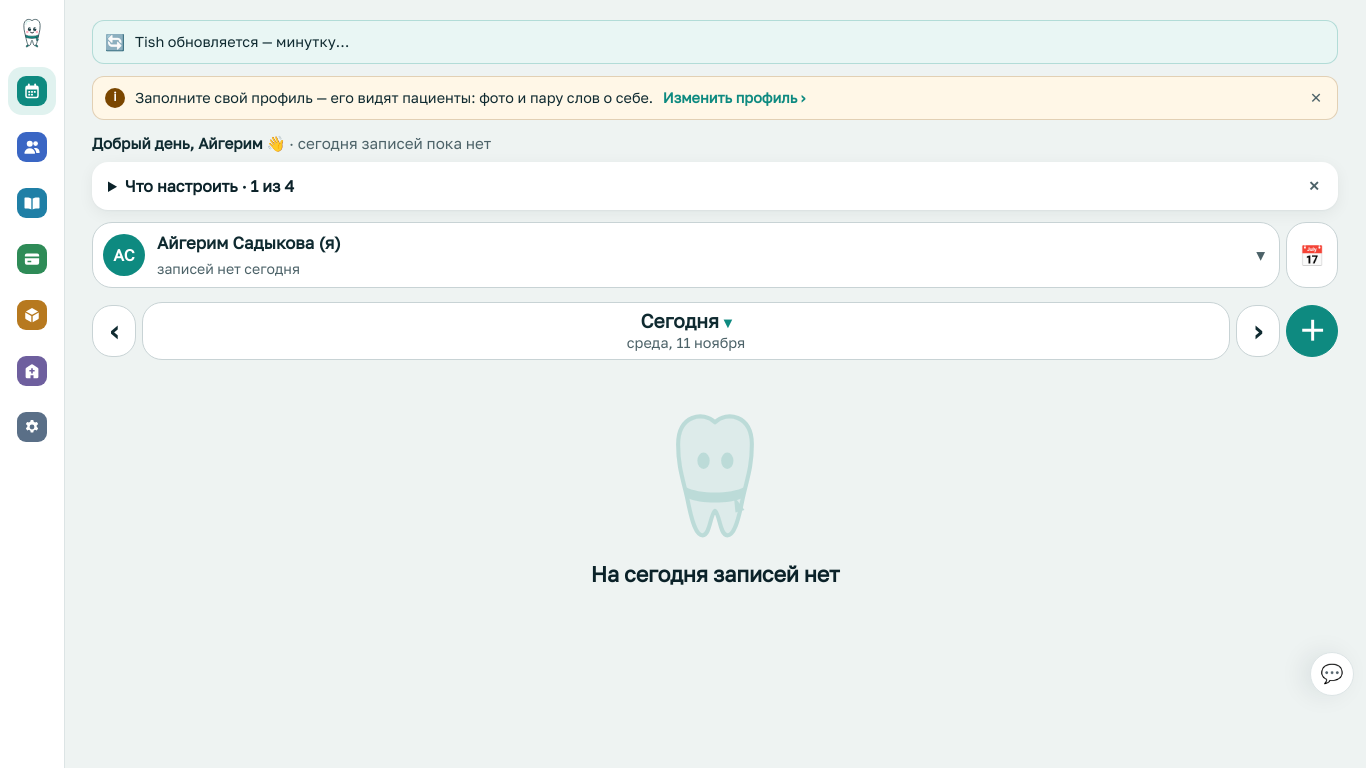
Test case: «Месяц» › телефон: «День | Месяц» нет — нажали на дату, месяц листом снизу; день — открывается в «Дне»
The width and height of the screenshot is (1366, 768).
Click the button with aria-label "выбрать день". click: click(686, 331)
box: top-left (142, 302), bottom-right (1230, 360)
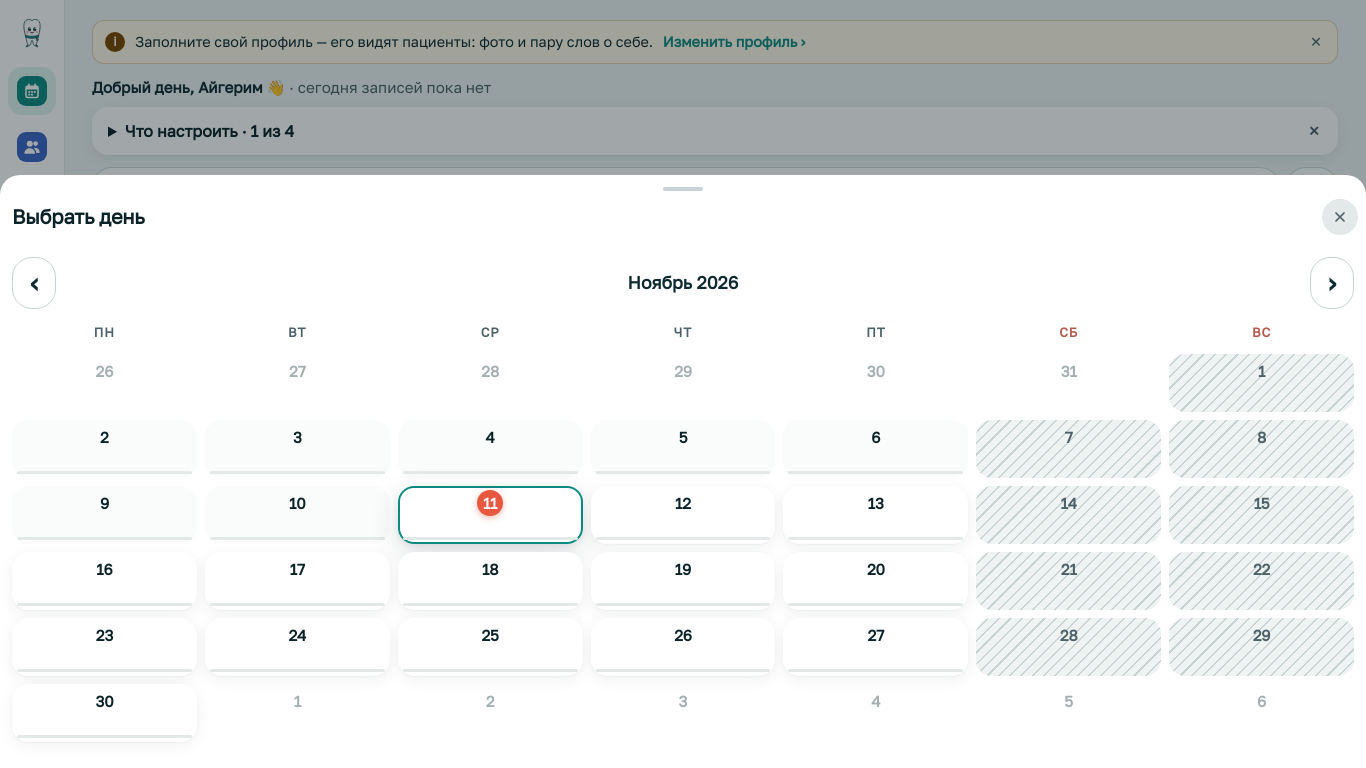
Click the button named "Следующий месяц". click: click(1332, 283)
box: top-left (1310, 257), bottom-right (1354, 309)
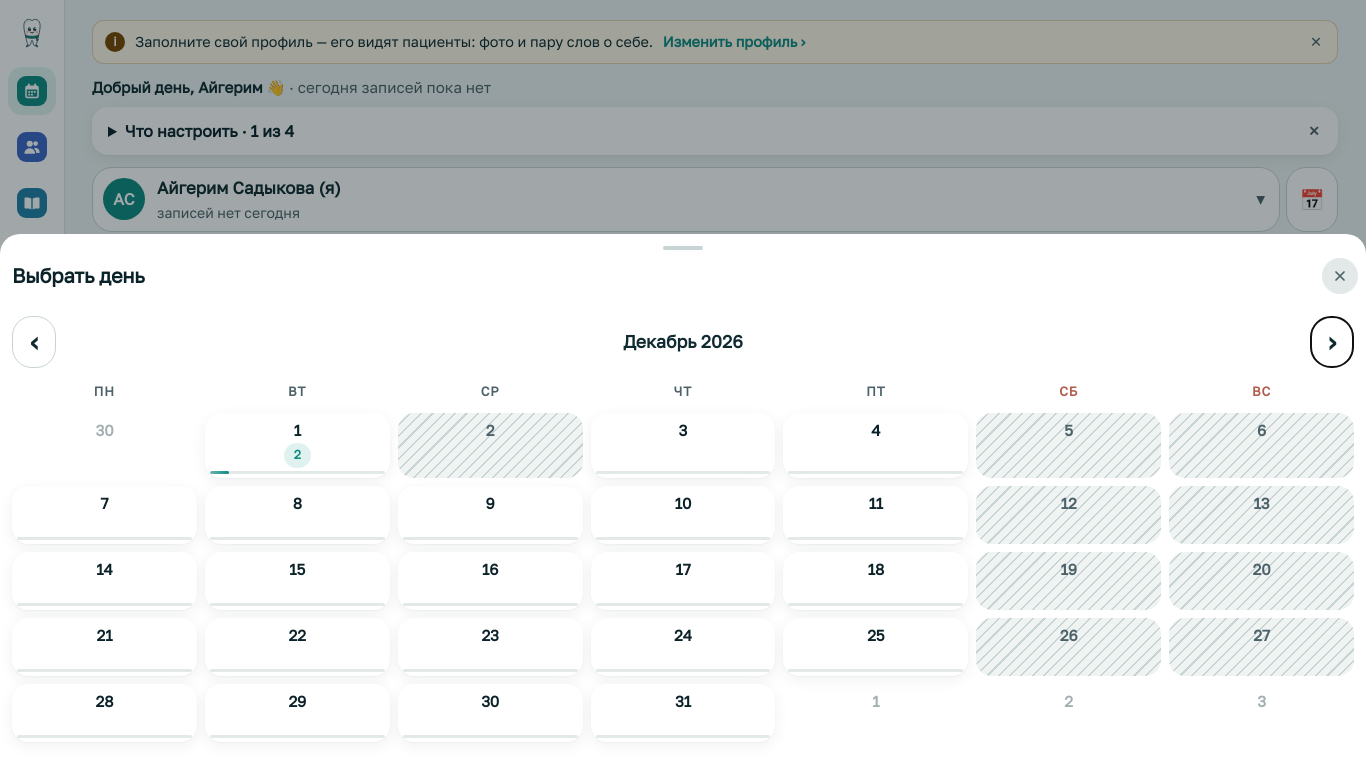
Click the button "1 2". click: click(297, 446)
box: top-left (205, 413), bottom-right (390, 478)
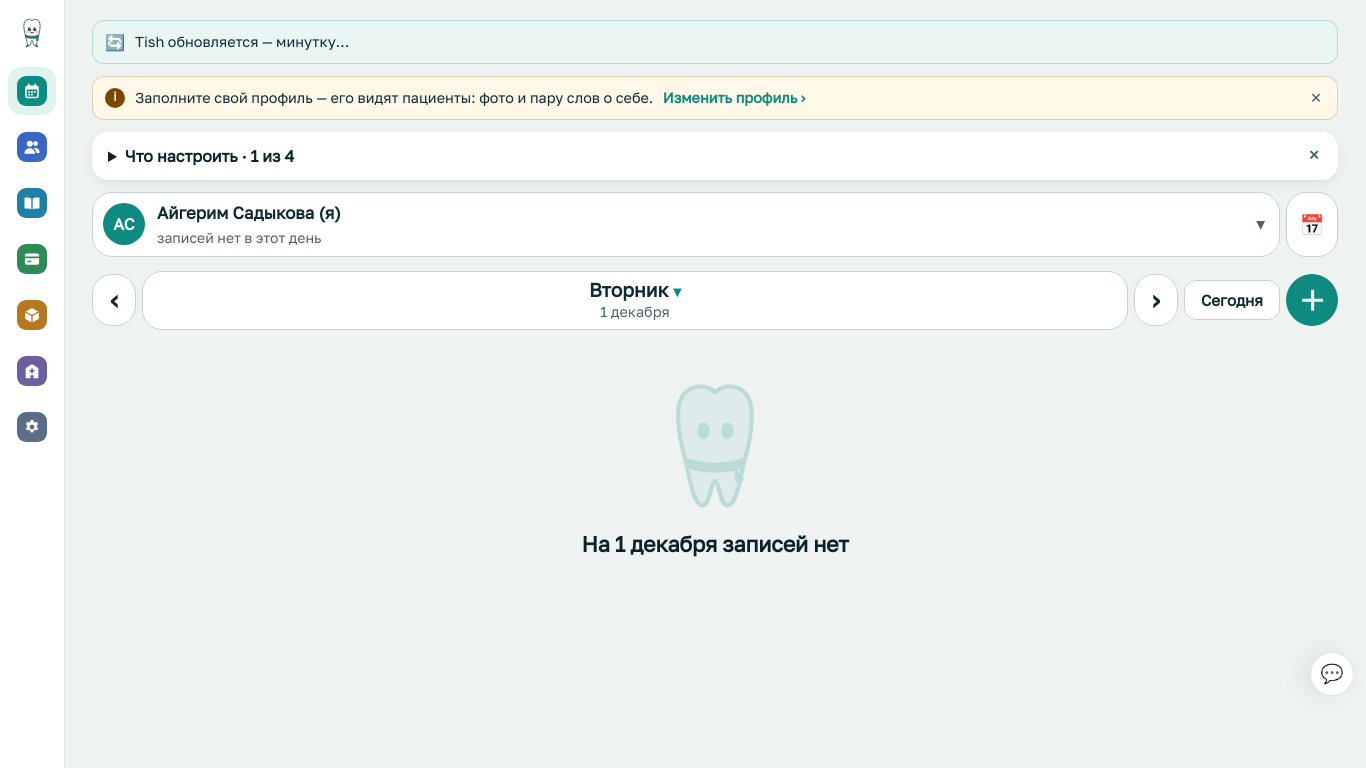
expect the heading "Выбрать день" is gone: met
